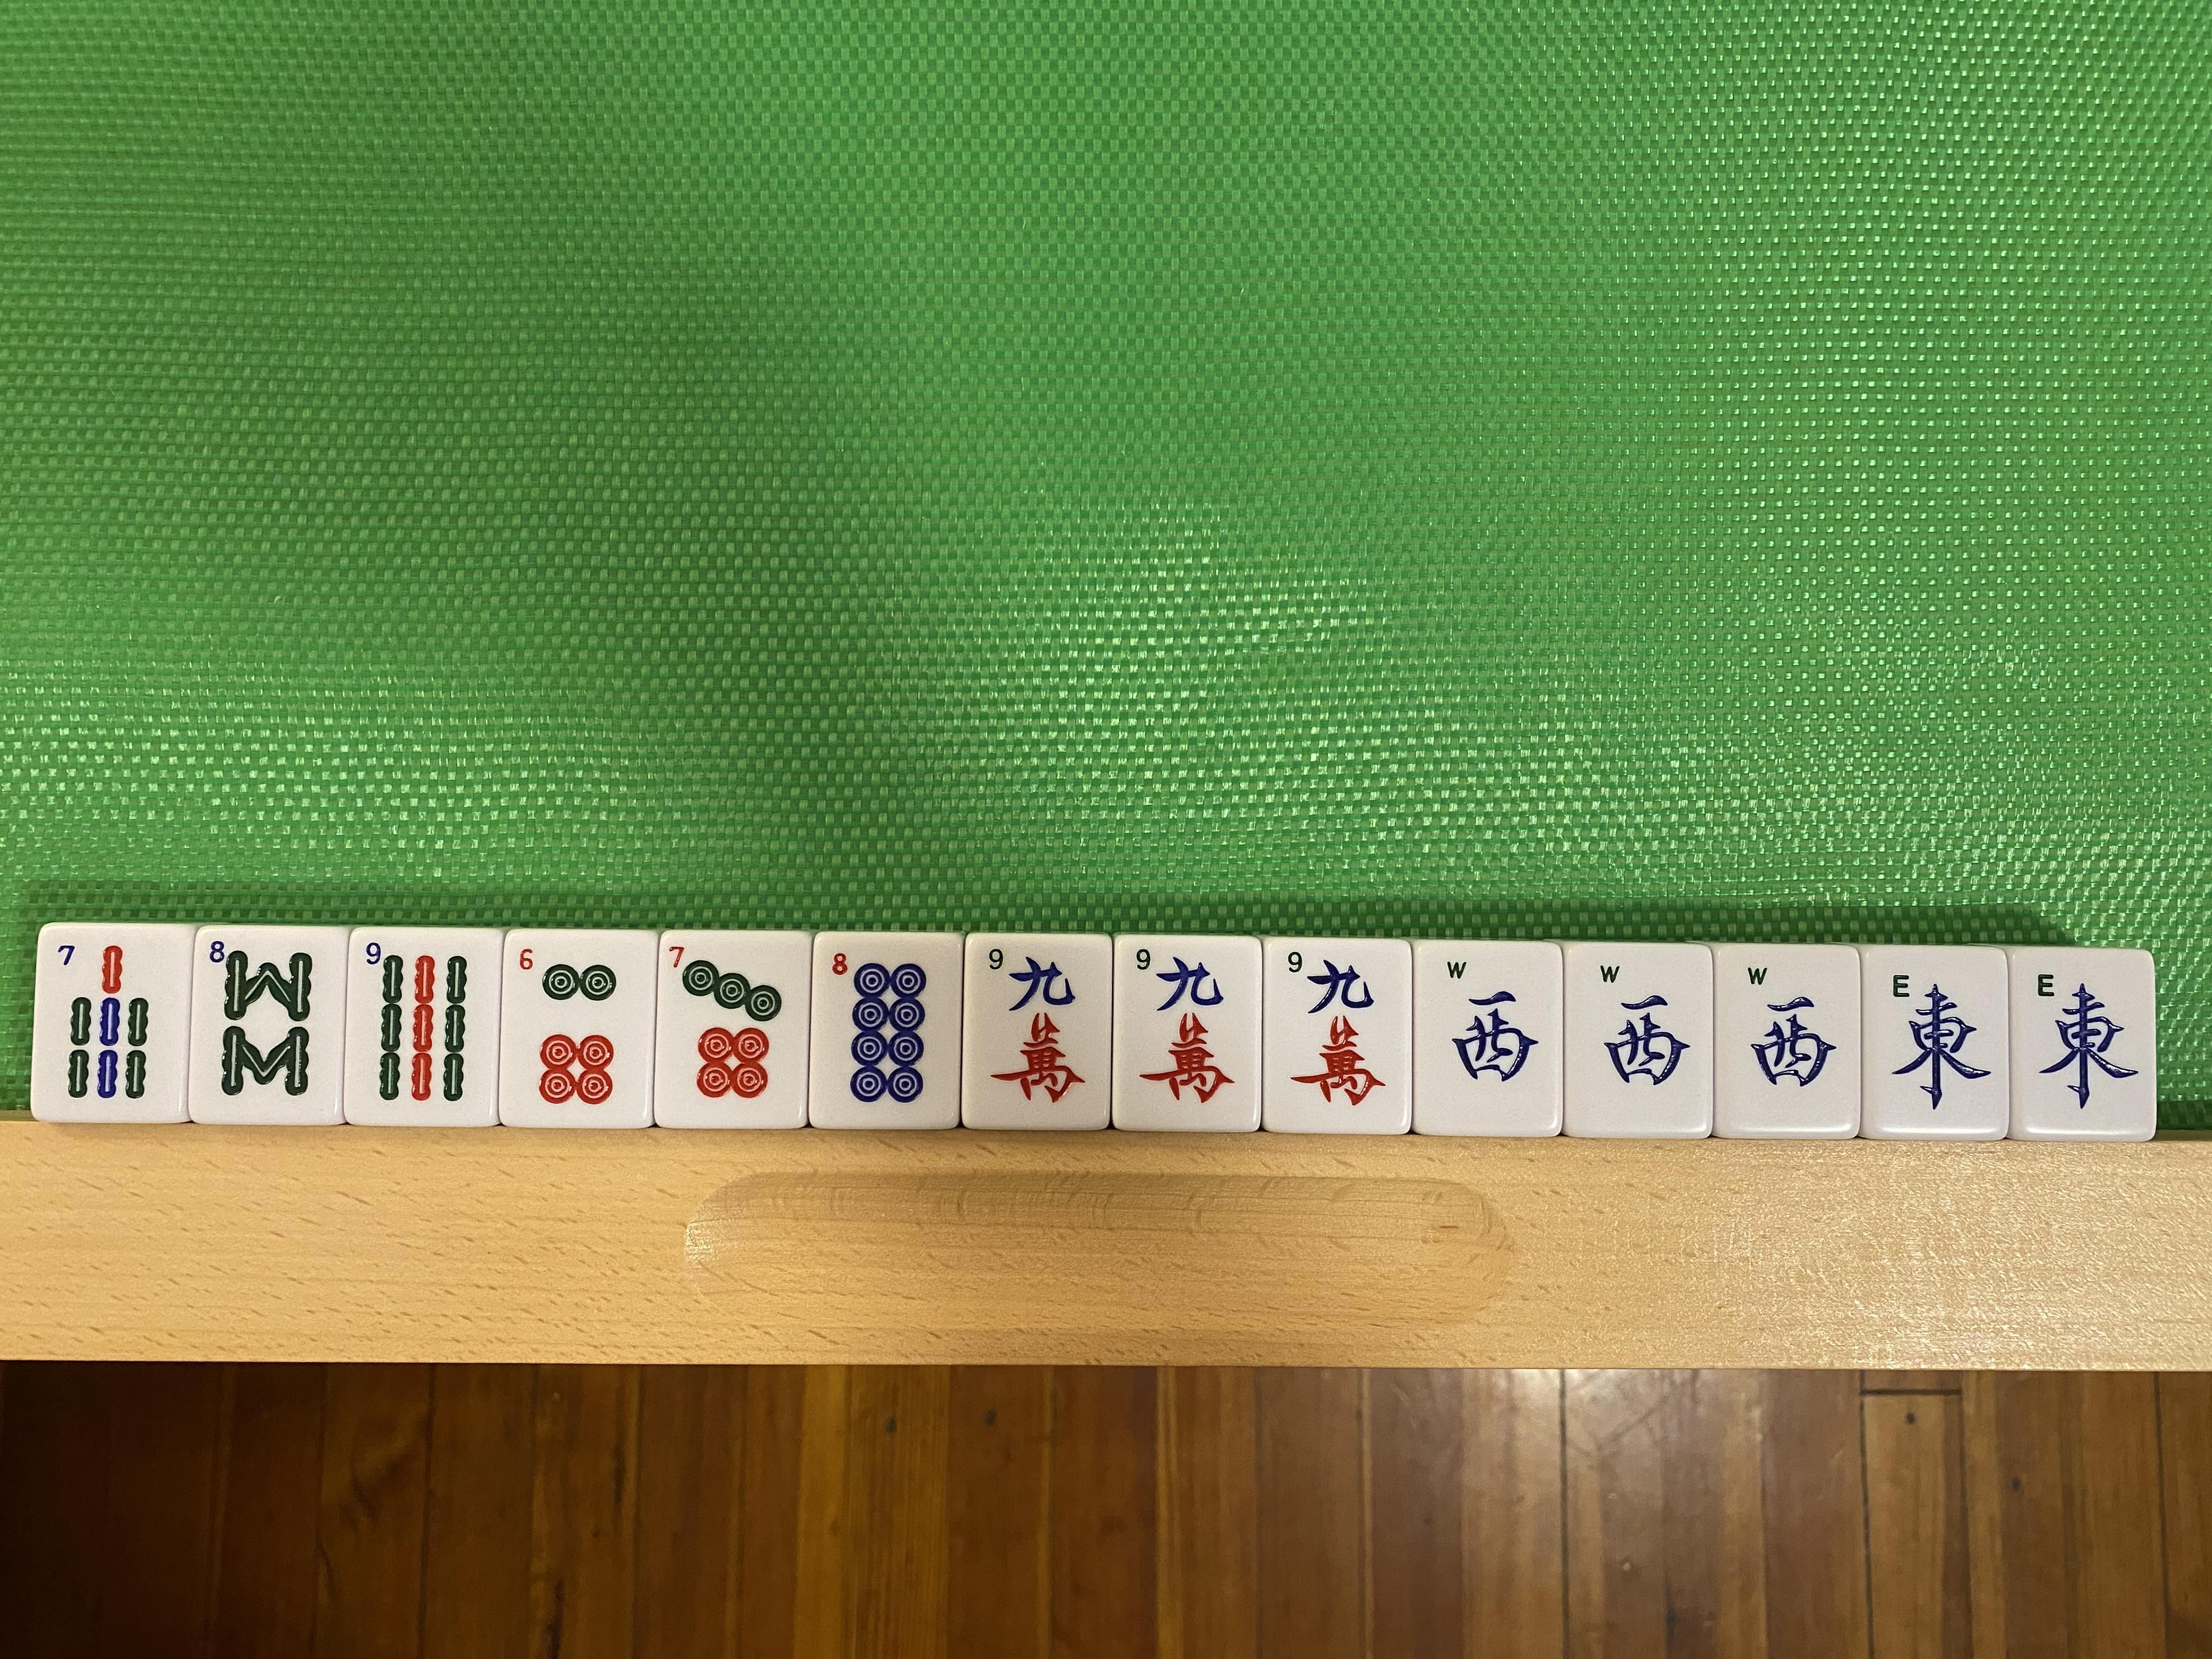bamboo-eight: (197, 927, 338, 1119)
bamboo-nine: (352, 929, 493, 1124)
bamboo-seven: (42, 927, 188, 1124)
character-nine: (1118, 938, 1261, 1131), (970, 936, 1109, 1131), (1270, 941, 1406, 1131)
circle-eight: (812, 931, 958, 1129)
circle-seven: (660, 936, 805, 1127)
circle-six: (505, 936, 650, 1126)
honor-east_wind: (2010, 950, 2156, 1140), (1865, 950, 2008, 1140)
honor-west_wind: (1416, 943, 1561, 1138), (1714, 948, 1860, 1134), (1569, 946, 1710, 1133)
